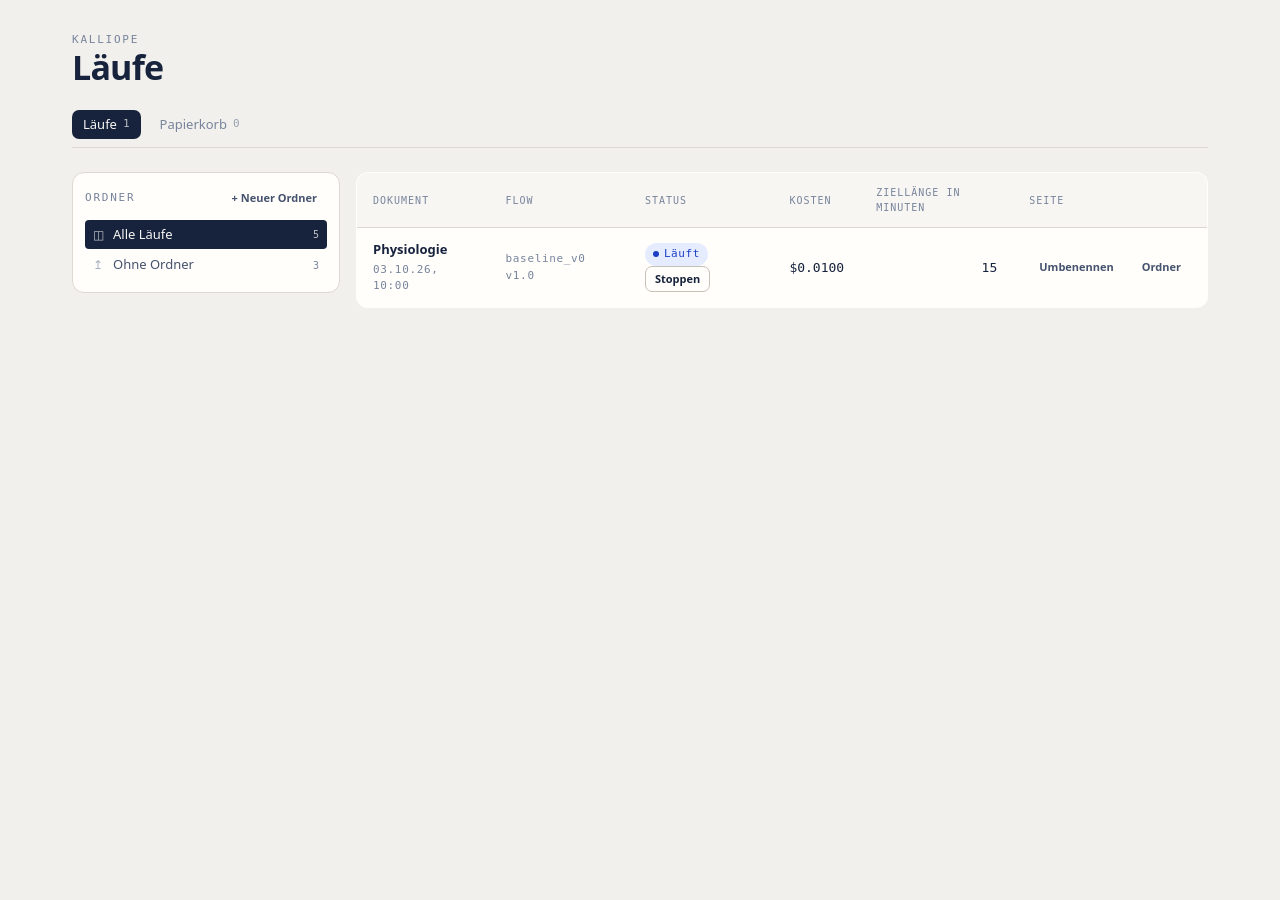
Test: runs list › drops a stale runs failure after a newer load stops the poll
Click the button "Stoppen". click: (678,279)
box: [645,266,710,292]
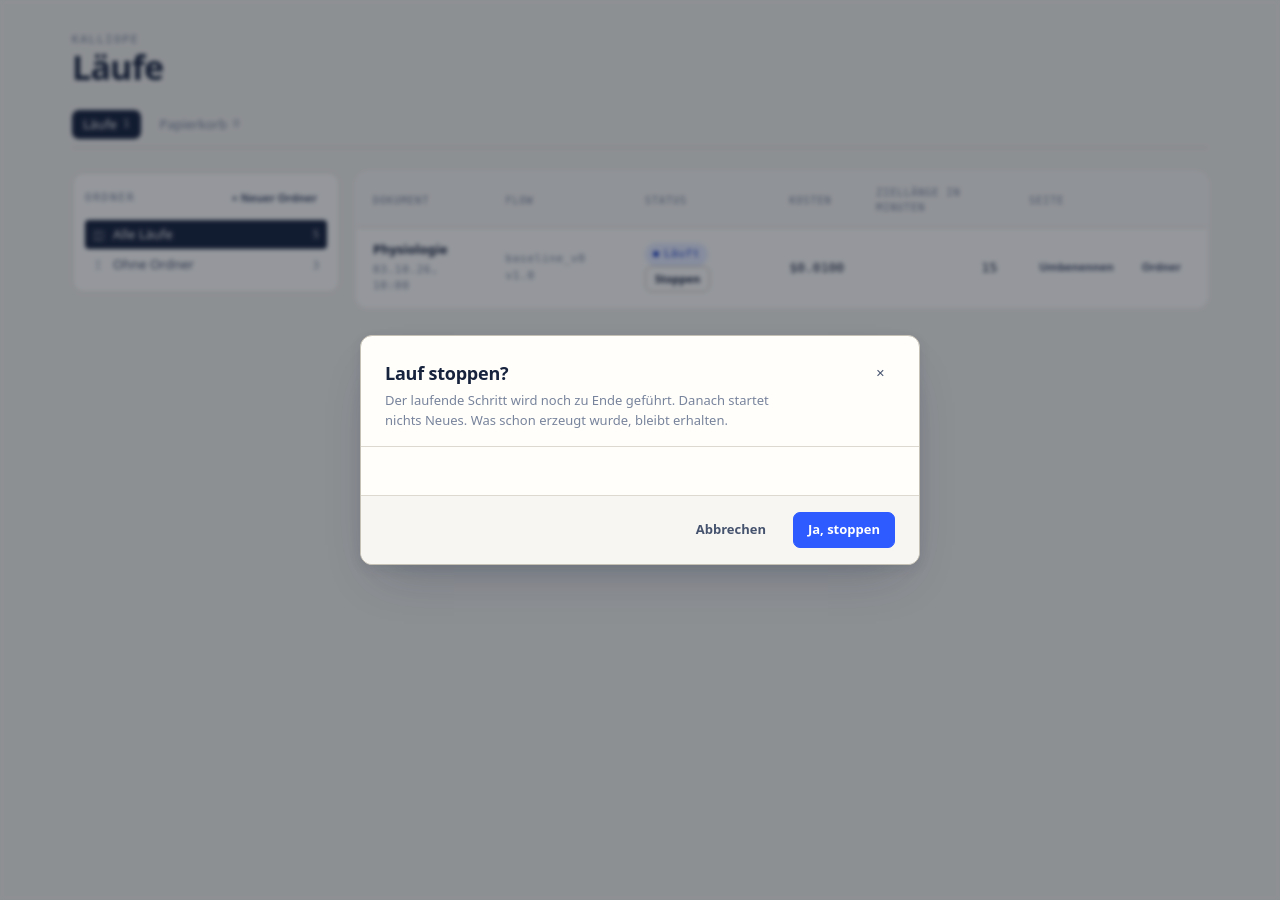
Click the button "Ja, stoppen". click: (844,530)
box: [793,512,895,548]
Wait 12000 ms
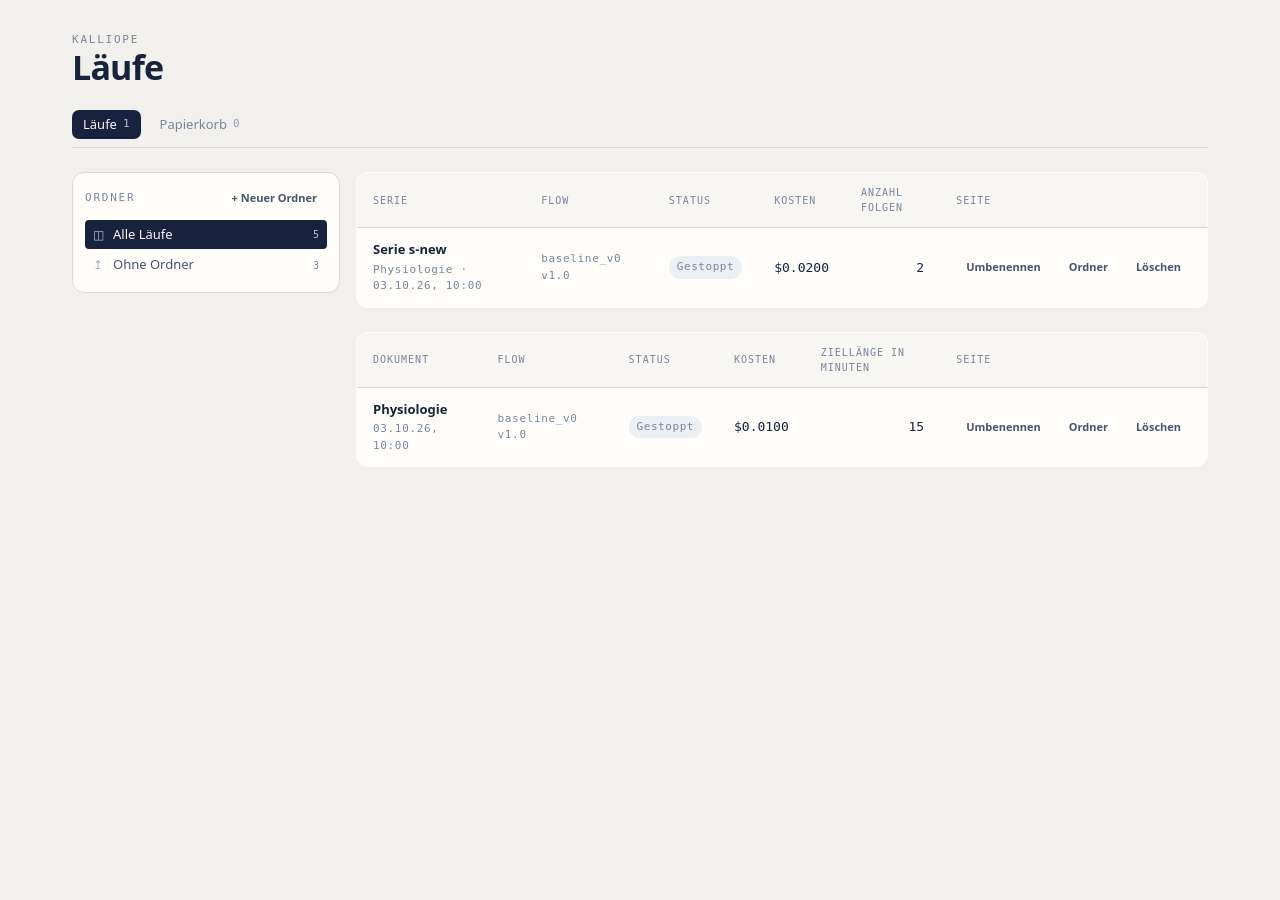
Now the text "Gestoppt" is shown, box [669,256,742,279]
Now the text "Serie s-new" is shown, box [373,240,446,258]
